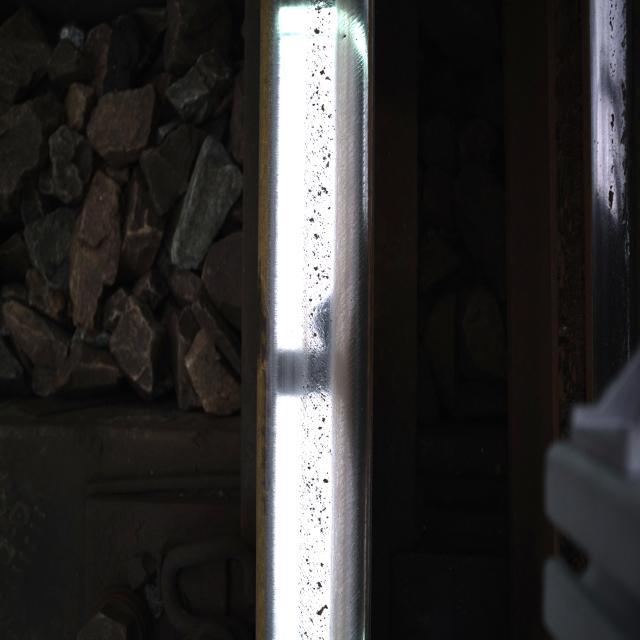scar: (292, 0, 346, 636)
